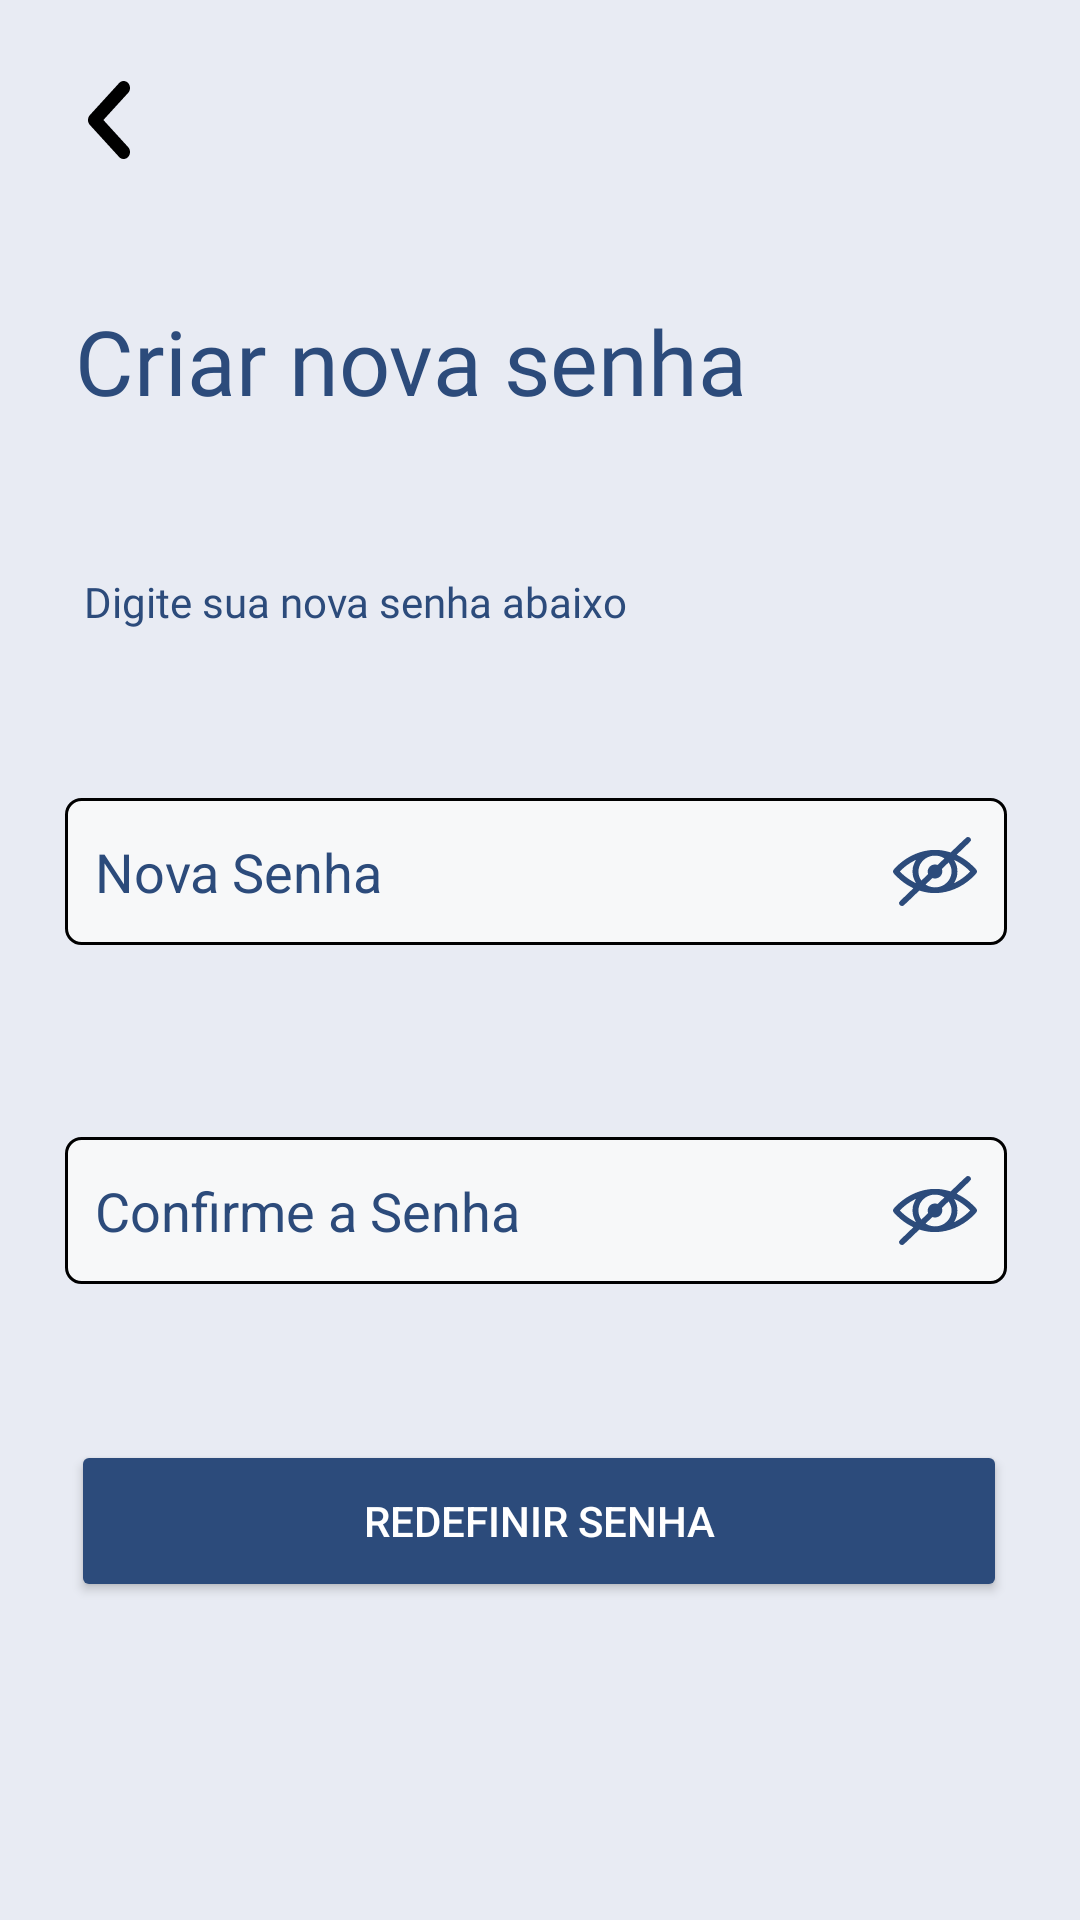

Where to tap for icons on this 1080x1920 app screen, as (x=x, y=y):
seta: (x=109, y=120)
